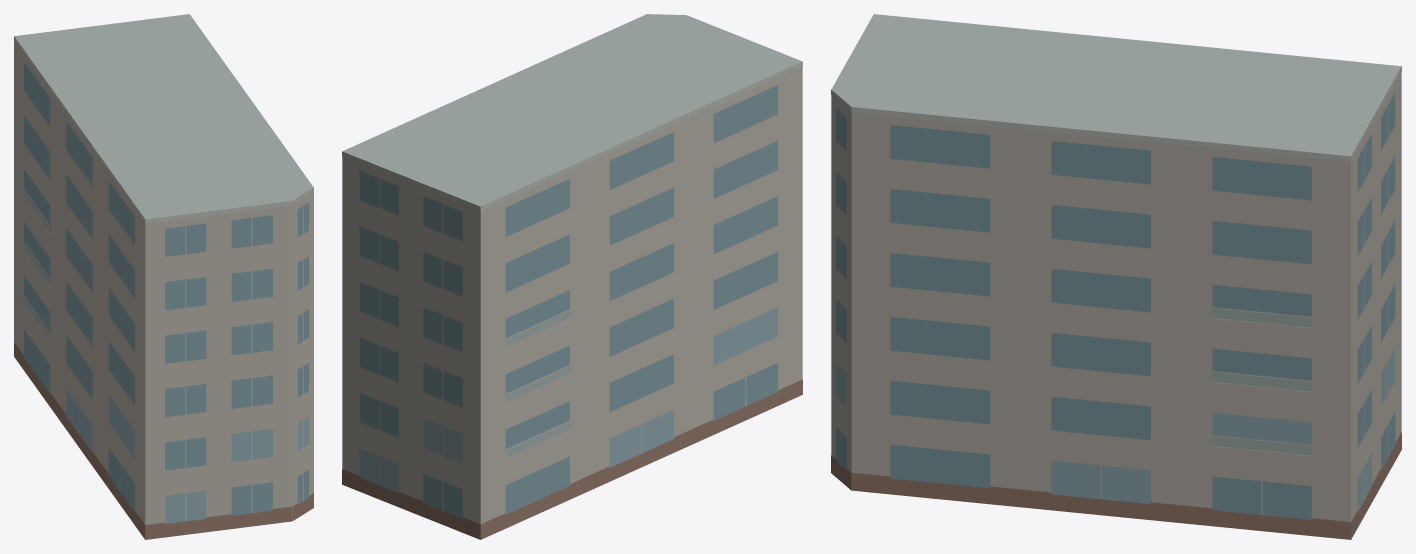
Rendered from survey-upis-32538283.glb.
3 renders of one model, left to right at view 1: azimuth 30°, elevation 25°; view 2: azimuth 150°, elevation 25°; view 3: azimuth 270°, elevation 25°, orthographic. The views are drawn at different scales.
Visible parts, largest first — view 1: survey-upis-32538283.tmp; view 2: survey-upis-32538283.tmp; view 3: survey-upis-32538283.tmp.
Part boxes in pixels (x1,y1,x2,y2): survey-upis-32538283.tmp: (14,14,313,539); survey-upis-32538283.tmp: (342,14,802,539); survey-upis-32538283.tmp: (831,14,1401,539).
Bounding box in the file's own units: 13.62 × 17.1 × 23.06.
